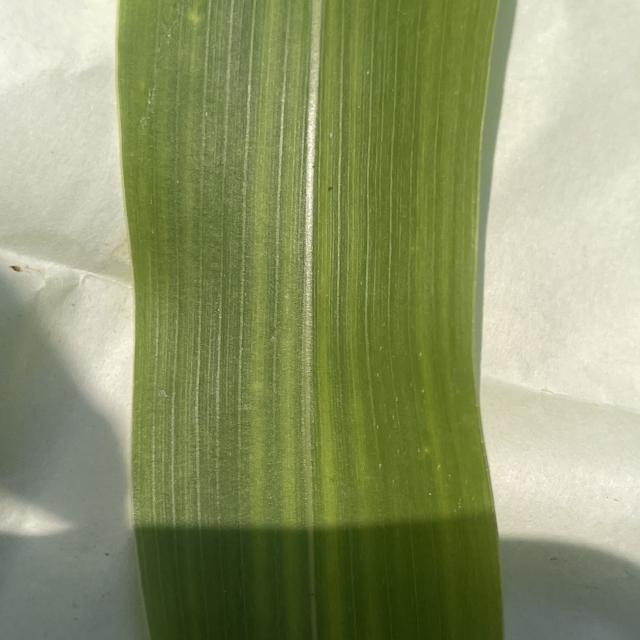millet_healthy: (108, 0, 516, 640)
